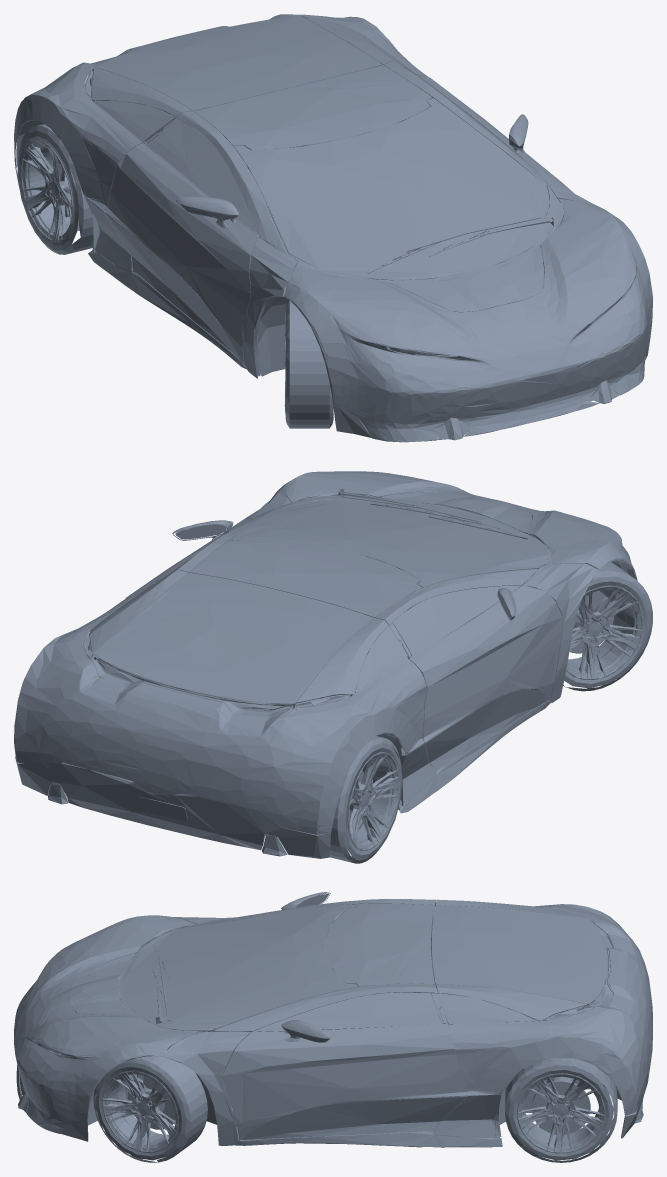
File: CarConcept_LOD1.glb
The picture shows the model from 3 angles, top to bottom: view 1: azimuth 30°, elevation 25°; view 2: azimuth 150°, elevation 25°; view 3: azimuth 270°, elevation 25°; orthographic projection. The views are drawn at different scales.
Parts seen in each view (by area): view 1: geometry_58, geometry_108, geometry_67, geometry_42, geometry_66, geometry_75, geometry_65, geometry_64, geometry_61, geometry_15, geometry_51, geometry_5 (+10 smaller); view 2: geometry_66, geometry_67, geometry_108, geometry_42, geometry_64, geometry_75, geometry_58, geometry_65, geometry_19, geometry_57, geometry_51, geometry_5 (+11 smaller); view 3: geometry_108, geometry_66, geometry_26, geometry_58, geometry_67, geometry_75, geometry_65, geometry_34, geometry_64, geometry_11, geometry_28, geometry_25 (+16 smaller).
Part boxes in pixels (x1,y1,x2,y2): geometry_58: [283, 198, 652, 442]; geometry_108: [234, 98, 549, 280]; geometry_67: [94, 16, 382, 111]; geometry_42: [104, 143, 257, 362]; geometry_66: [14, 14, 427, 210]; geometry_75: [194, 65, 432, 150]; geometry_65: [176, 61, 599, 378]; geometry_64: [15, 163, 651, 437]; geometry_61: [388, 245, 544, 312]; geometry_15: [286, 299, 332, 428]; geometry_51: [148, 120, 257, 233]; geometry_5: [21, 140, 79, 241]; geometry_66: [14, 569, 425, 834]; geometry_67: [92, 572, 374, 703]; geometry_108: [229, 497, 548, 587]; geometry_42: [409, 585, 562, 742]; geometry_64: [15, 701, 551, 858]; geometry_75: [189, 537, 422, 617]; geometry_58: [278, 471, 637, 580]; geometry_65: [175, 489, 598, 702]; geometry_19: [566, 585, 643, 679]; geometry_57: [424, 689, 549, 769]; geometry_51: [392, 585, 520, 655]; geometry_5: [347, 752, 398, 850]; geometry_108: [122, 904, 358, 1028]; geometry_66: [436, 899, 652, 1115]; geometry_26: [222, 1024, 467, 1139]; geometry_58: [14, 915, 197, 1133]; geometry_67: [432, 905, 607, 1004]; geometry_75: [326, 903, 434, 986]; geometry_65: [163, 899, 437, 1145]; geometry_34: [240, 1096, 467, 1139]; geometry_64: [16, 1047, 652, 1147]; geometry_11: [517, 1073, 605, 1153]; geometry_28: [255, 992, 441, 1030]; geometry_25: [102, 1070, 178, 1152].
Bounding box in the file's own units: 2.54 × 1.15 × 4.36.
